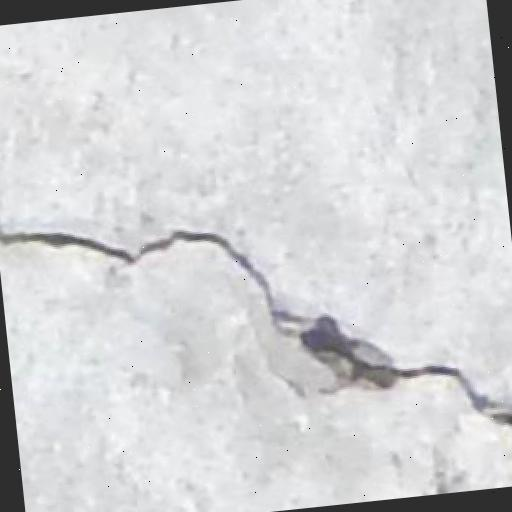spalling: (0, 212, 512, 441)
